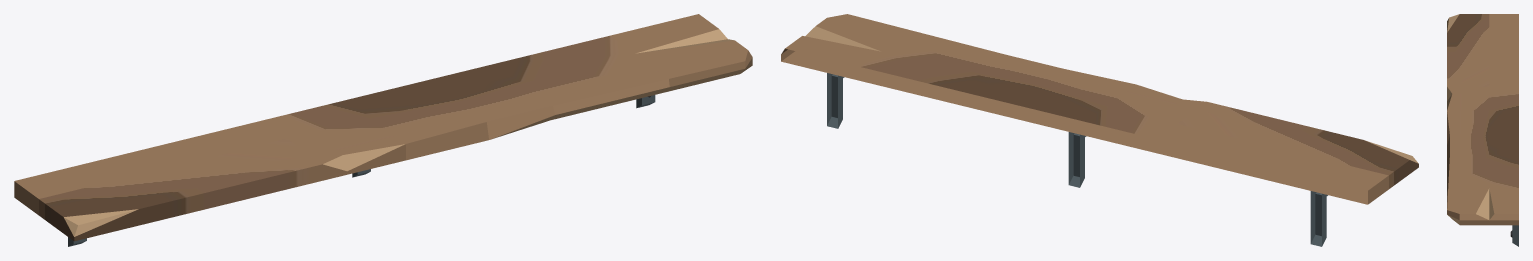
Rendered from SM_Shelf_01.fbx.
3 views of the same model, side by side, from view 1: azimuth 30°, elevation 25°; view 2: azimuth 150°, elevation 25°; view 3: azimuth 270°, elevation 25° (orthographic). The views are drawn at different scales.
Parts seen in each view (by area): view 1: SM_Shelf_01; view 2: SM_Shelf_01; view 3: SM_Shelf_01.
Boxes of the visible parts, x1,y1,x2,y2 form: SM_Shelf_01: (14,14,752,246); SM_Shelf_01: (781,14,1418,246); SM_Shelf_01: (1447,14,1518,246).
Bounding box in the file's own units: 200 × 21.94 × 30.15.
